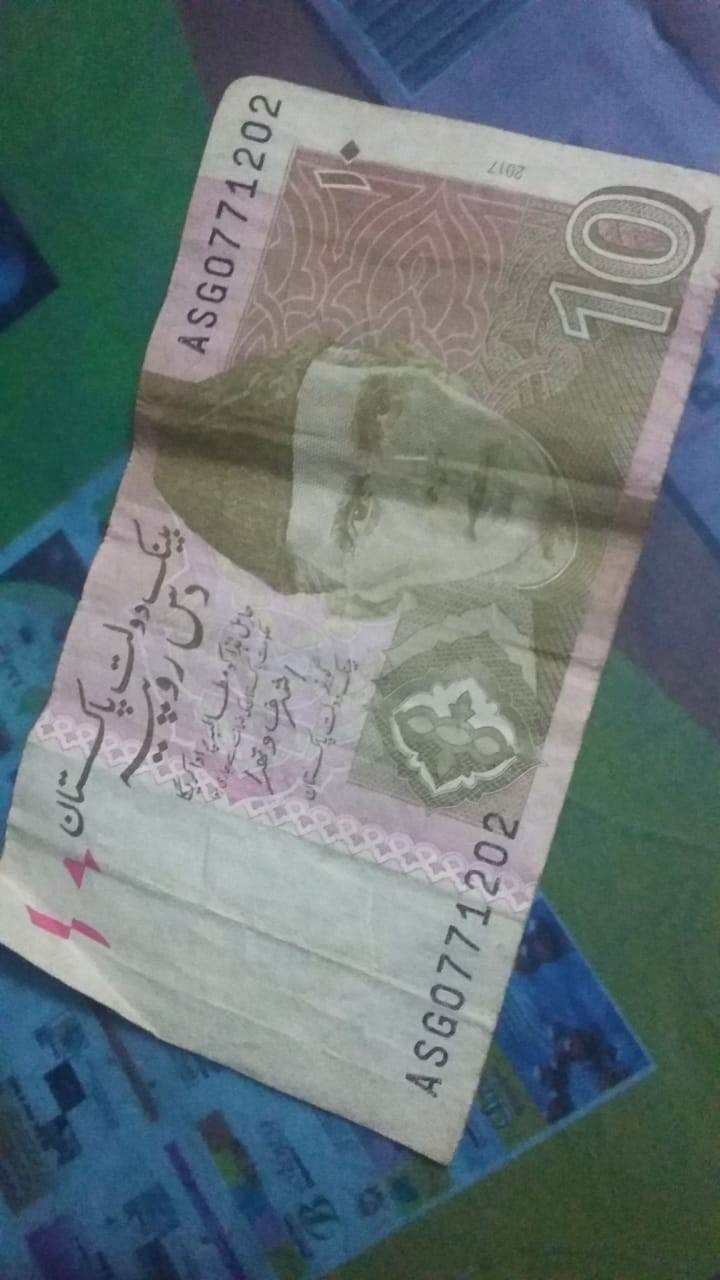10 rupee: (6, 71, 720, 1149)
